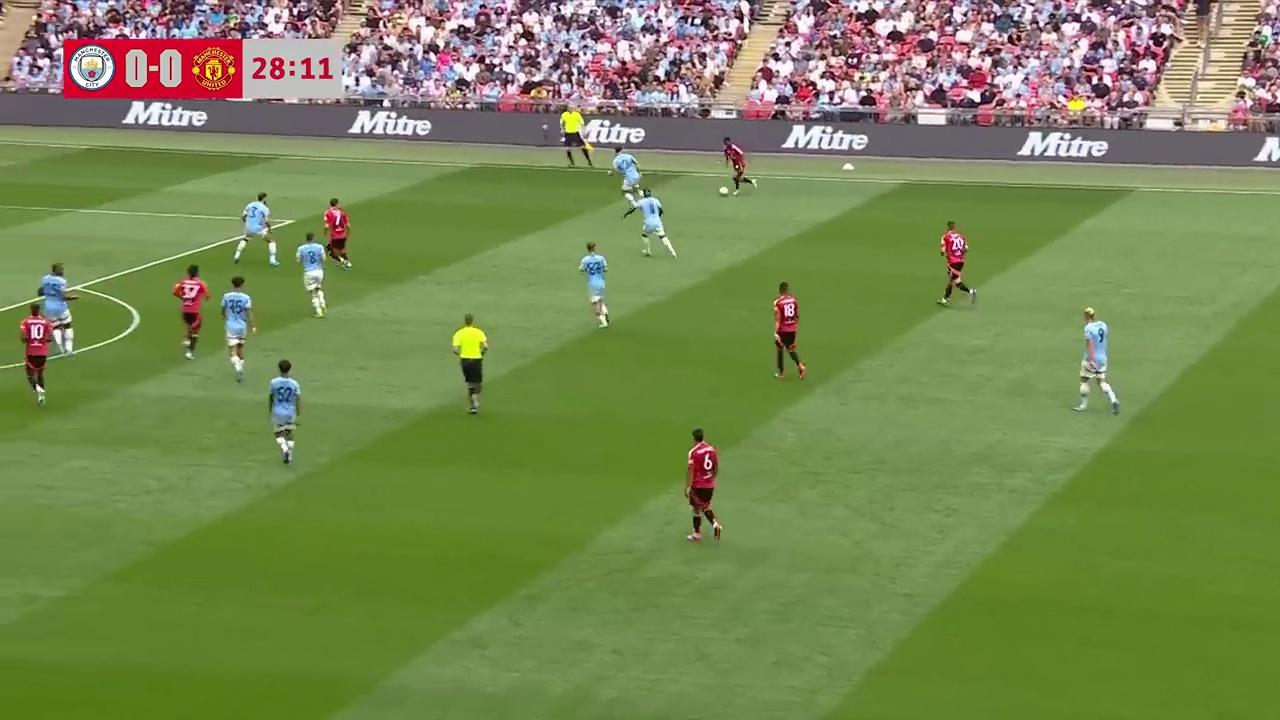ball: (716, 183, 729, 196)
player: (1074, 308, 1120, 415), (684, 428, 721, 543), (172, 264, 211, 360), (38, 262, 78, 355), (267, 359, 302, 464), (221, 273, 253, 383), (233, 192, 279, 266), (772, 281, 805, 381), (938, 221, 976, 306), (19, 307, 51, 407), (578, 241, 610, 327), (638, 187, 676, 258), (296, 232, 327, 317), (322, 197, 351, 270), (610, 149, 642, 214), (721, 136, 755, 193)
referee: (451, 314, 490, 416), (554, 105, 594, 169)
